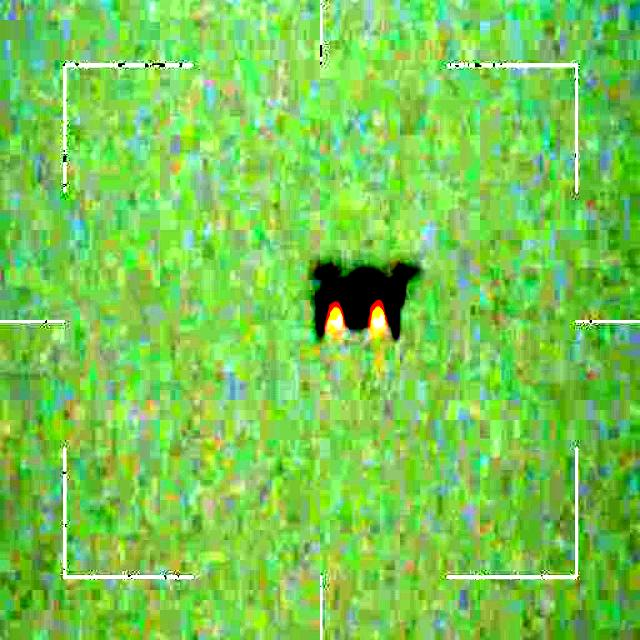bird: (311, 255, 420, 338)
